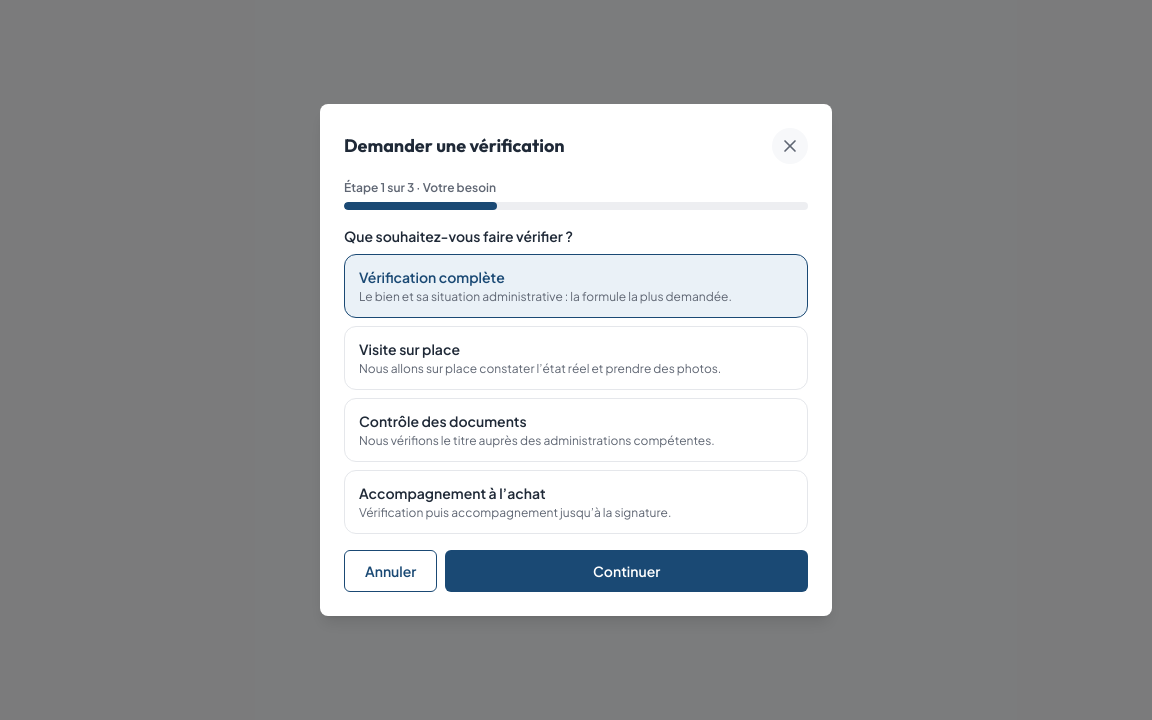
it: NewMissionModal (assistant en trois étapes) › commence par le besoin, et avance étape par étape
Check: the text "Étape 1 sur 3 · Votre besoin" is shown, box [344, 180, 496, 195]
Click the button "Continuer" at (627, 571), box [445, 550, 808, 592]
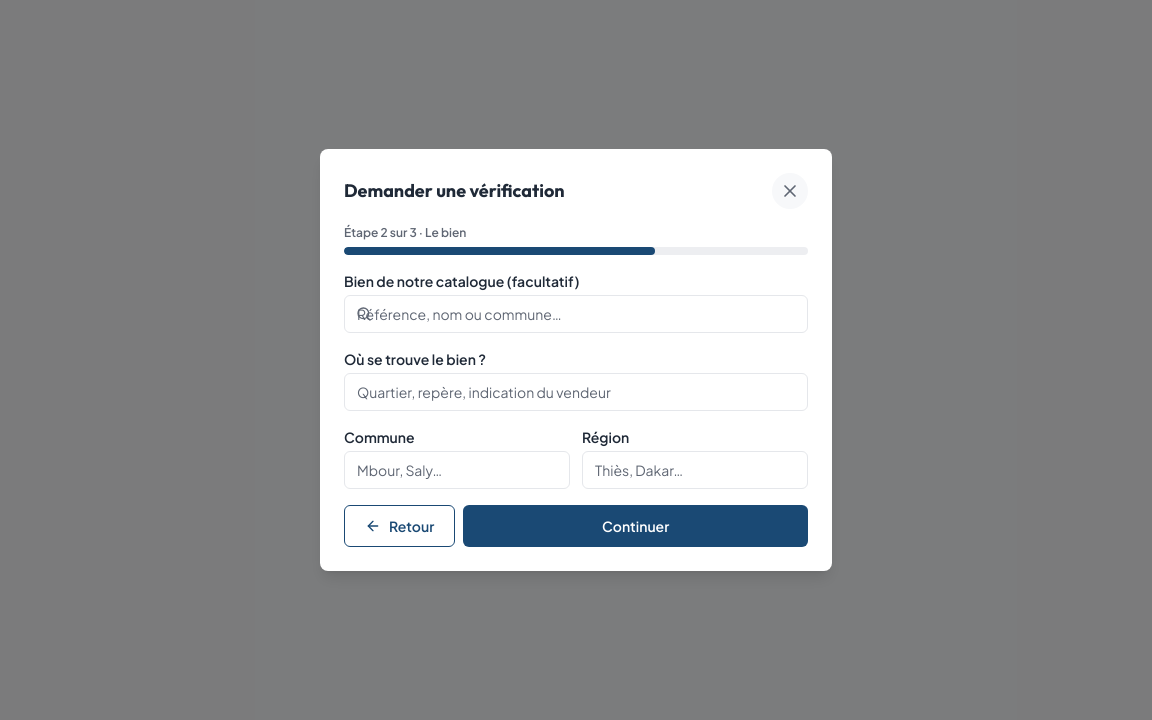
Check: the text "Étape 2 sur 3 · Le bien" is shown, box [344, 225, 466, 240]
